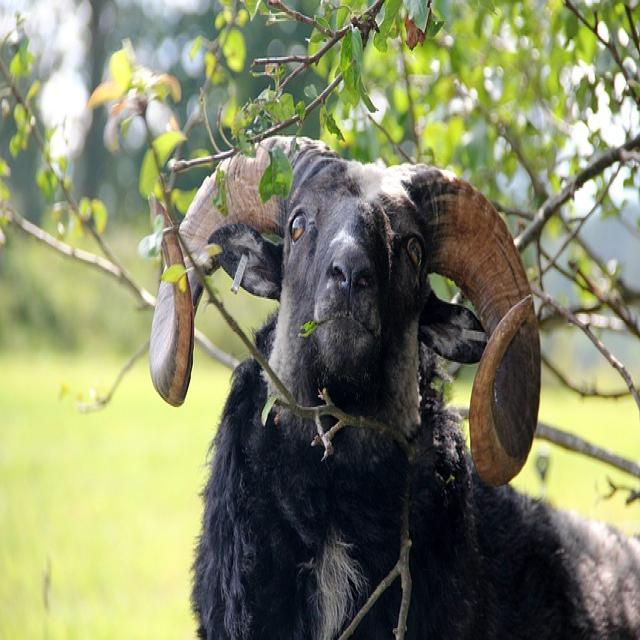goat: (148, 137, 640, 640)
